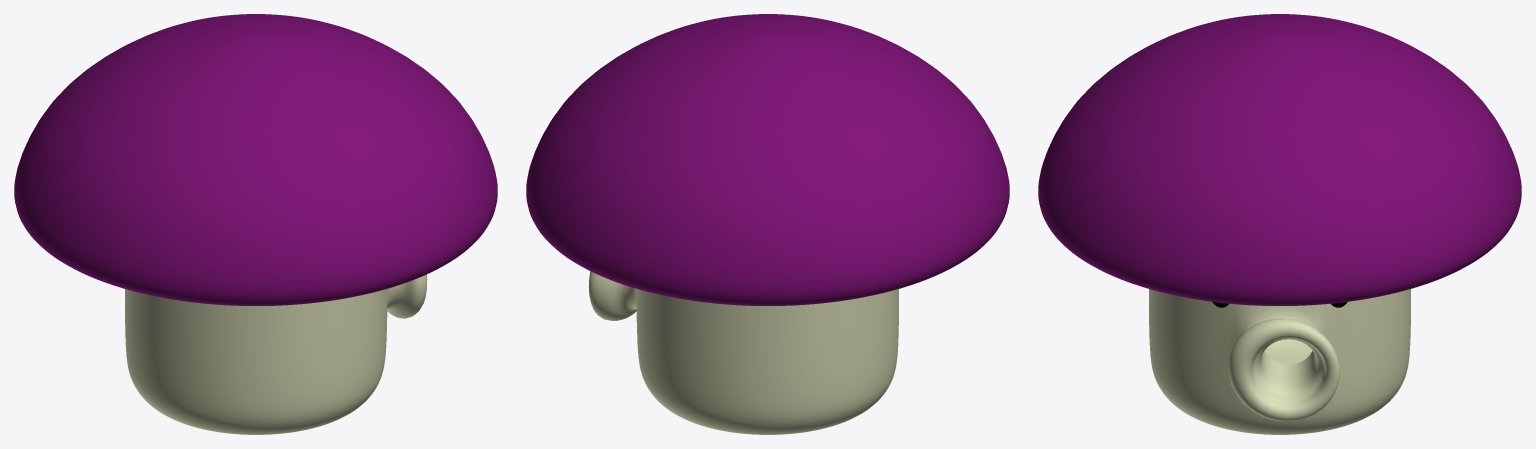
The model's file is 小喷菇.glb.
3 views of the same model, side by side, from view 1: azimuth 30°, elevation 25°; view 2: azimuth 150°, elevation 25°; view 3: azimuth 270°, elevation 25° (orthographic).
Parts seen in each view (by area): view 1: 圆环.001; view 2: 圆环.001; view 3: 圆环.001.
Part boxes in pixels (left/top/right/bottom): 圆环.001: left=14, top=14, right=497, bottom=434; 圆环.001: left=526, top=14, right=1009, bottom=434; 圆环.001: left=1038, top=14, right=1521, bottom=434.
Bounding box in the file's own units: 0.3868 × 0.3132 × 0.3868.
